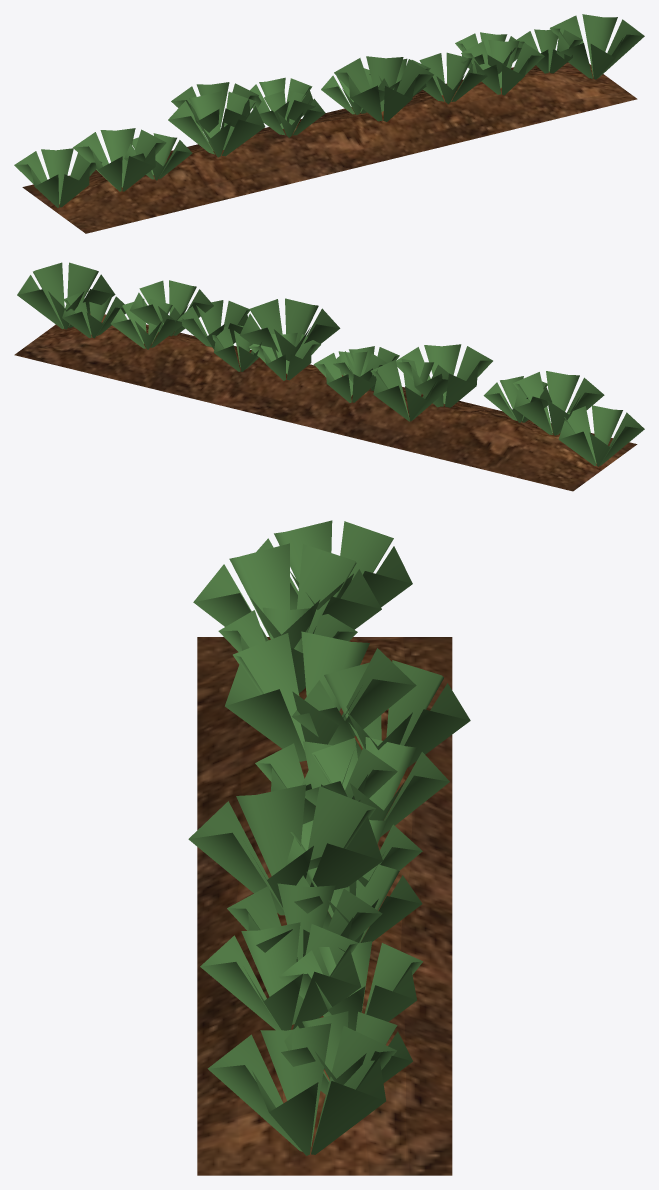
The model's file is vegBed.glb.
3 renders of one model, top to bottom at view 1: azimuth 30°, elevation 25°; view 2: azimuth 150°, elevation 25°; view 3: azimuth 270°, elevation 25°, orthographic. The views are drawn at different scales.
Parts seen in each view (by area): view 1: part_1, part_0; view 2: part_1, part_0; view 3: part_1, part_0.
Part boxes in pixels (box(x1,y1,x2,y2)): part_1: box(14, 14, 644, 207); part_0: box(22, 62, 637, 233); part_1: box(17, 262, 644, 466); part_0: box(14, 314, 637, 491); part_1: box(188, 520, 470, 1155); part_0: box(197, 637, 452, 1175).
Bounding box in the file's own units: 2.26 × 0.2456 × 0.4555.
Materials: 2 (1 with a texture image).
